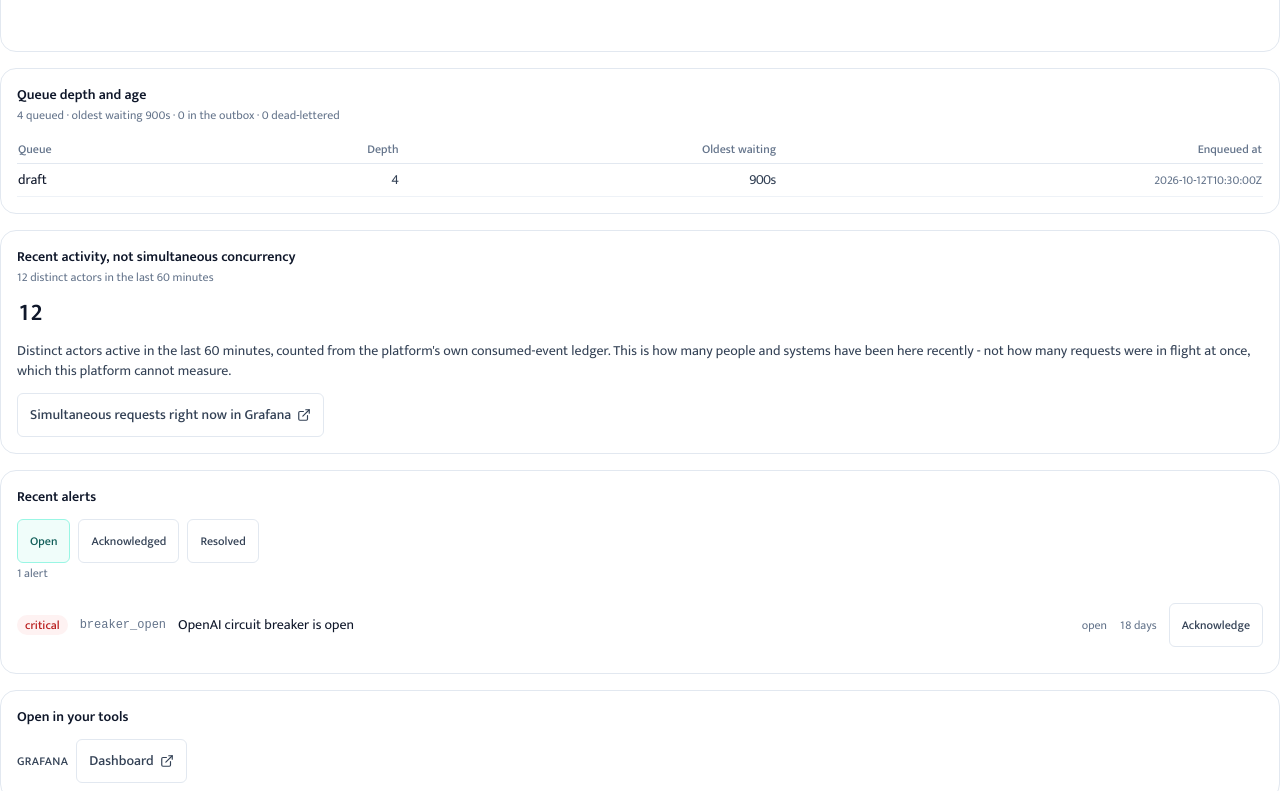
Test: ObservabilityReliabilityPage › says a failed acknowledgement rather than leaving the row looking done
This screenshot has width=1280, height=791.
(page scrolled)
Click the button with test id "observability-alert-alert-1-acknowledge" at (1216, 625), box [1169,603,1263,647]
(page scrolled)
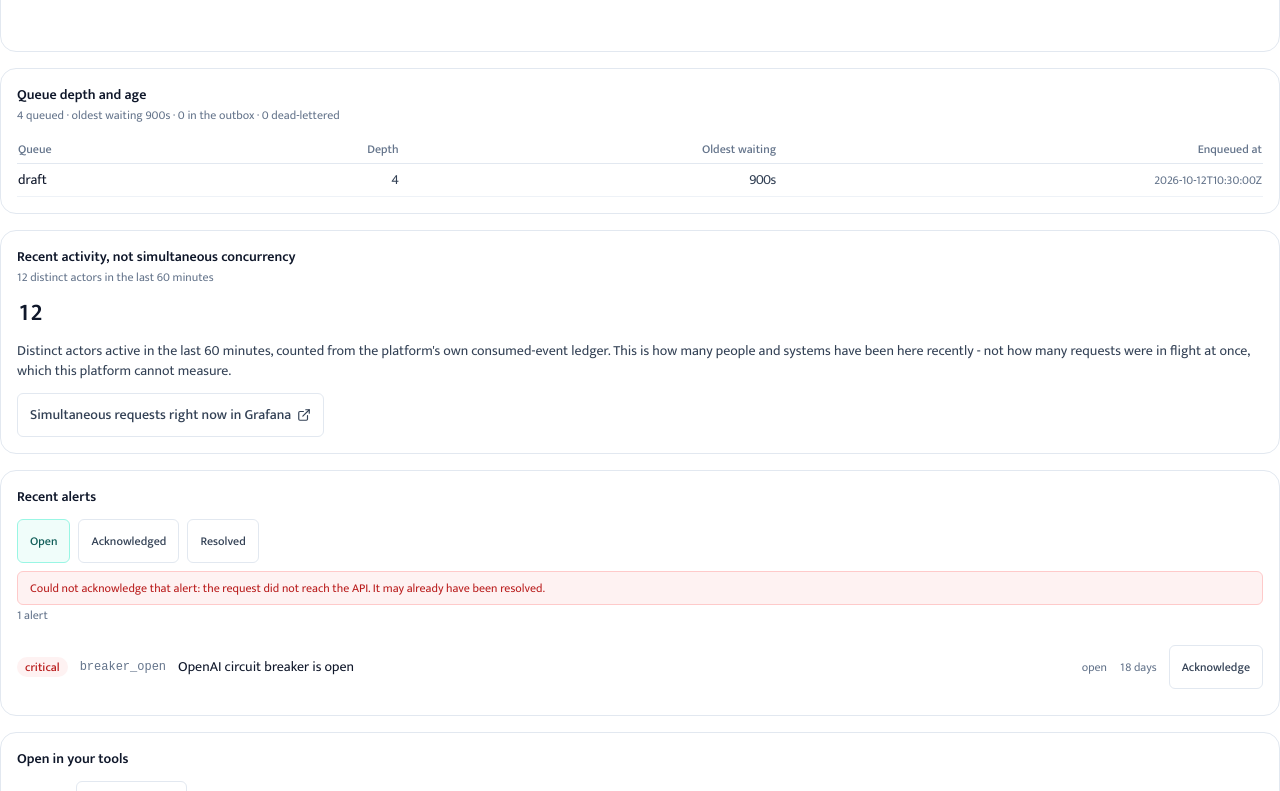
expect the list item with test id "observability-alert-alert-1" is shown: met, box [17,635,1263,699]
expect the message with test id "observability-alerts-acknowledge-error" shows "Could not acknowledge": met, box [30,578,545,598]
